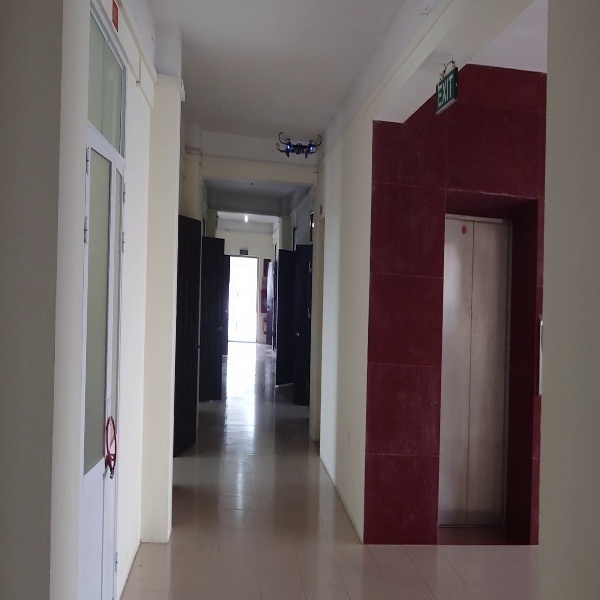drone: (272, 123, 329, 162)
